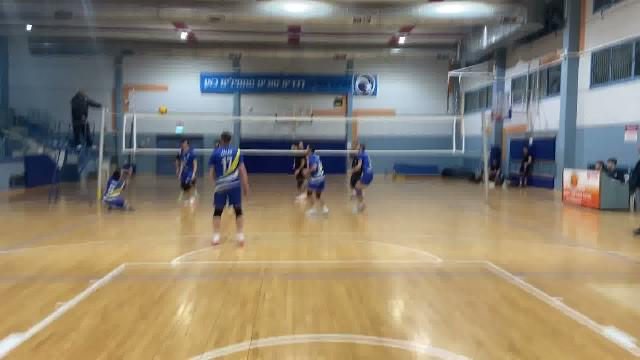ball: (156, 104, 170, 119)
